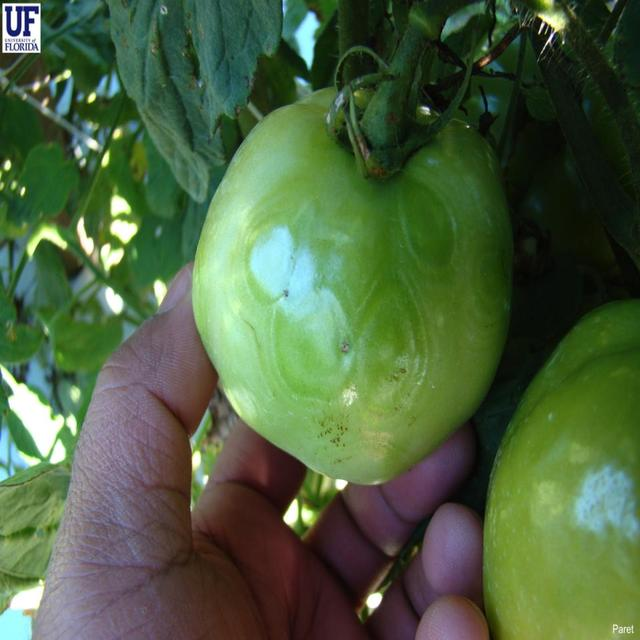Spotted wilt Virus Fruit: (156, 87, 427, 200)
